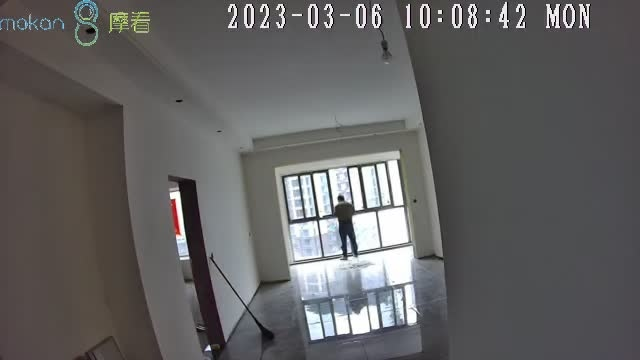people: (333, 195, 360, 261)
window: (279, 160, 411, 262)
